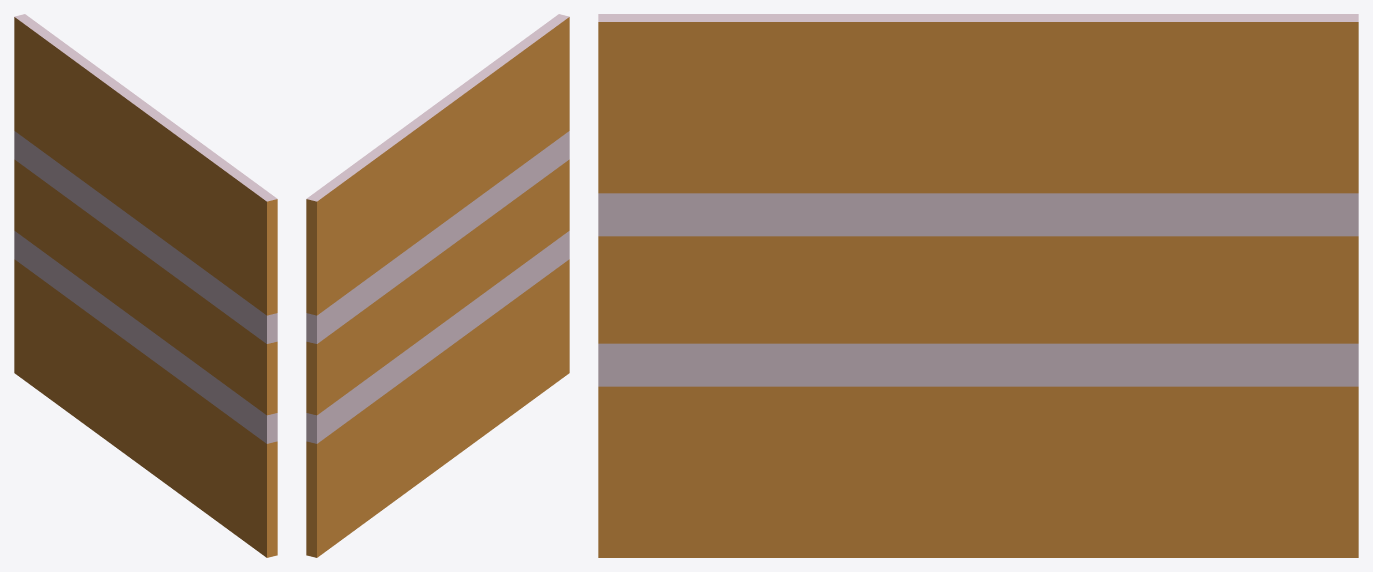
Rendered from (YnZp)ParedeLowPolly.fbx.
3 renders of one model, left to right at view 1: azimuth 30°, elevation 25°; view 2: azimuth 150°, elevation 25°; view 3: azimuth 270°, elevation 25°, orthographic. The views are drawn at different scales.
Visible parts, largest first — view 1: Cube; view 2: Cube; view 3: Cube.
Boxes of the visible parts, x1=… form: Cube: x1=14, y1=14, x2=277, y2=557; Cube: x1=306, y1=14, x2=569, y2=557; Cube: x1=598, y1=14, x2=1358, y2=557.
Bounding box in the file's own units: 60 × 2415 × 1878.
